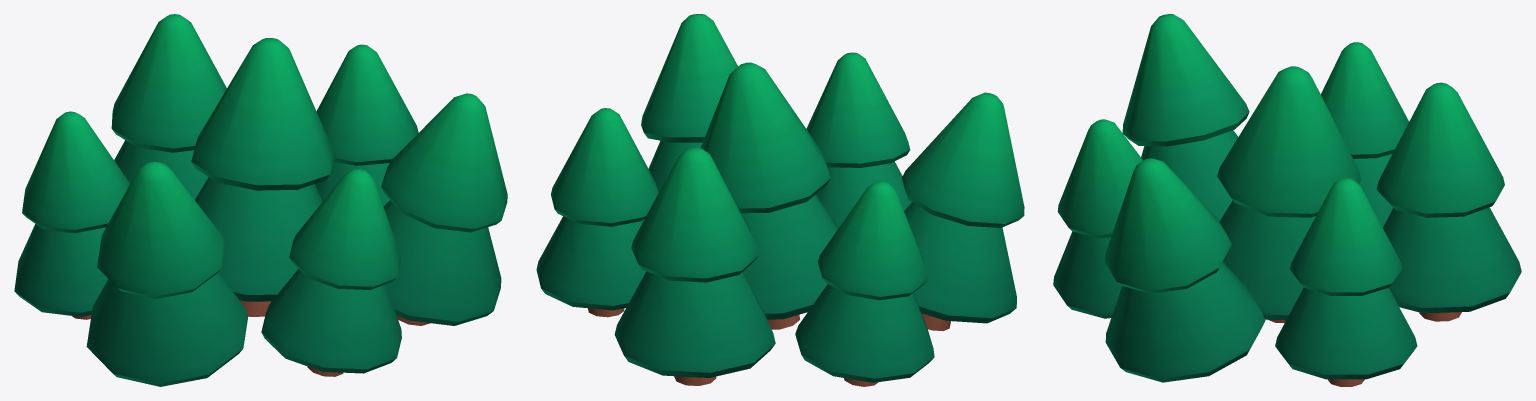
The model's file is kay-pinhal-grande.gltf.
3 views of the same model, side by side, from view 1: azimuth 30°, elevation 25°; view 2: azimuth 150°, elevation 25°; view 3: azimuth 270°, elevation 25° (orthographic). The views are drawn at different scales.
Visible parts, largest first — view 1: trees_B_large; view 2: trees_B_large; view 3: trees_B_large.
Part boxes in pixels (left/top/right/bottom): trees_B_large: left=14, top=14, right=507, bottom=386; trees_B_large: left=536, top=14, right=1024, bottom=386; trees_B_large: left=1053, top=14, right=1521, bottom=386.
Bounding box in the file's own units: 9.25 × 5.87 × 9.66.
Materials: 1 (1 with a texture image).
